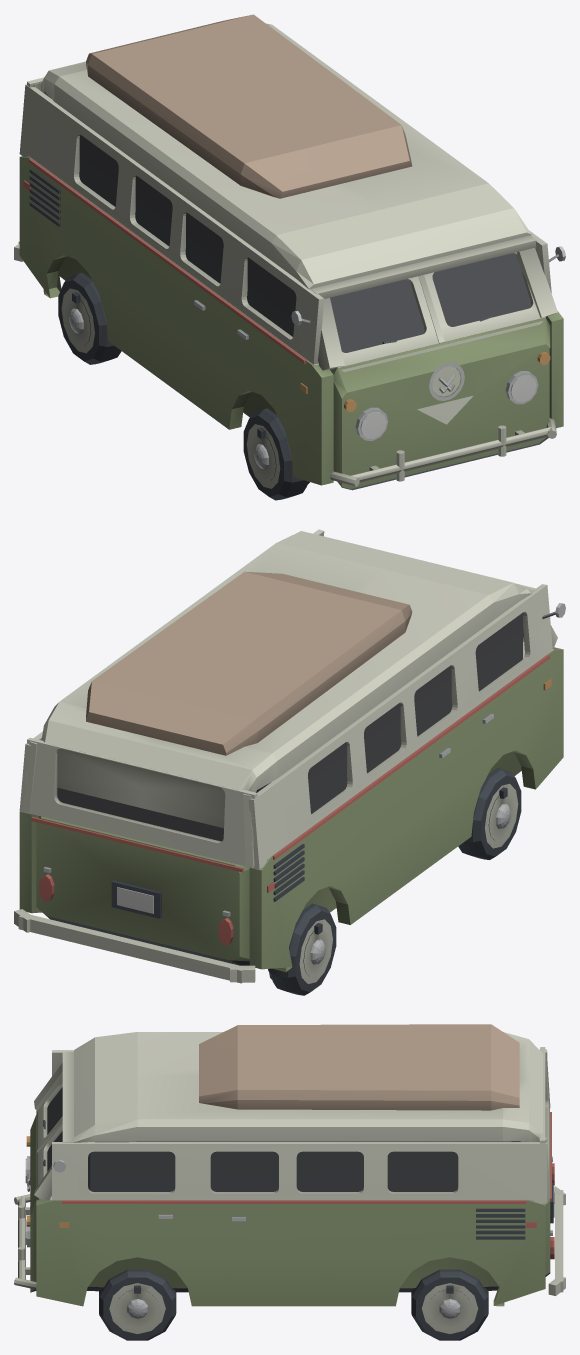
Rendered from camper.glb.
3 renders of one model, top to bottom at view 1: azimuth 30°, elevation 25°; view 2: azimuth 150°, elevation 25°; view 3: azimuth 270°, elevation 25°, orthographic. The views are drawn at different scales.
Parts seen in each view (by area): view 1: camper; view 2: camper; view 3: camper.
Boxes of the visible parts, x1=… form: camper: x1=14, y1=14, x2=565, y2=500; camper: x1=14, y1=529, x2=565, y2=995; camper: x1=14, y1=1024, x2=565, y2=1340.
Size of the model in its own units: 2.2 by 2.22 by 4.68.
